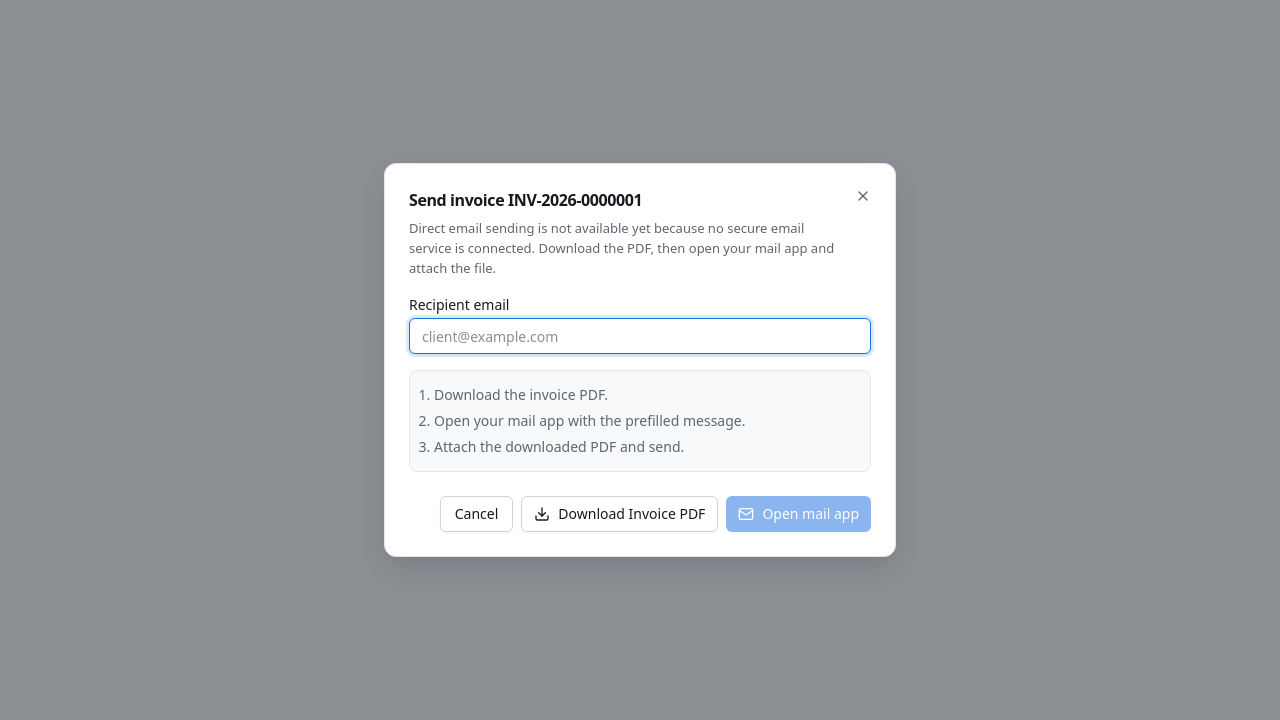
Scenario: InvoiceEmailDialog layout guards › keeps every control inside a constrained, wrapping dialog structure
Check: the dialog is shown, box left=384, top=163, right=896, bottom=557
Check: the button "Open mail app" is disabled, box left=726, top=496, right=871, bottom=532
In the field labelled "Recipient email": (640, 336) left=409, top=318, right=871, bottom=354, type "a.very.long.email.address.for.testing@subdomain.example-company.com"
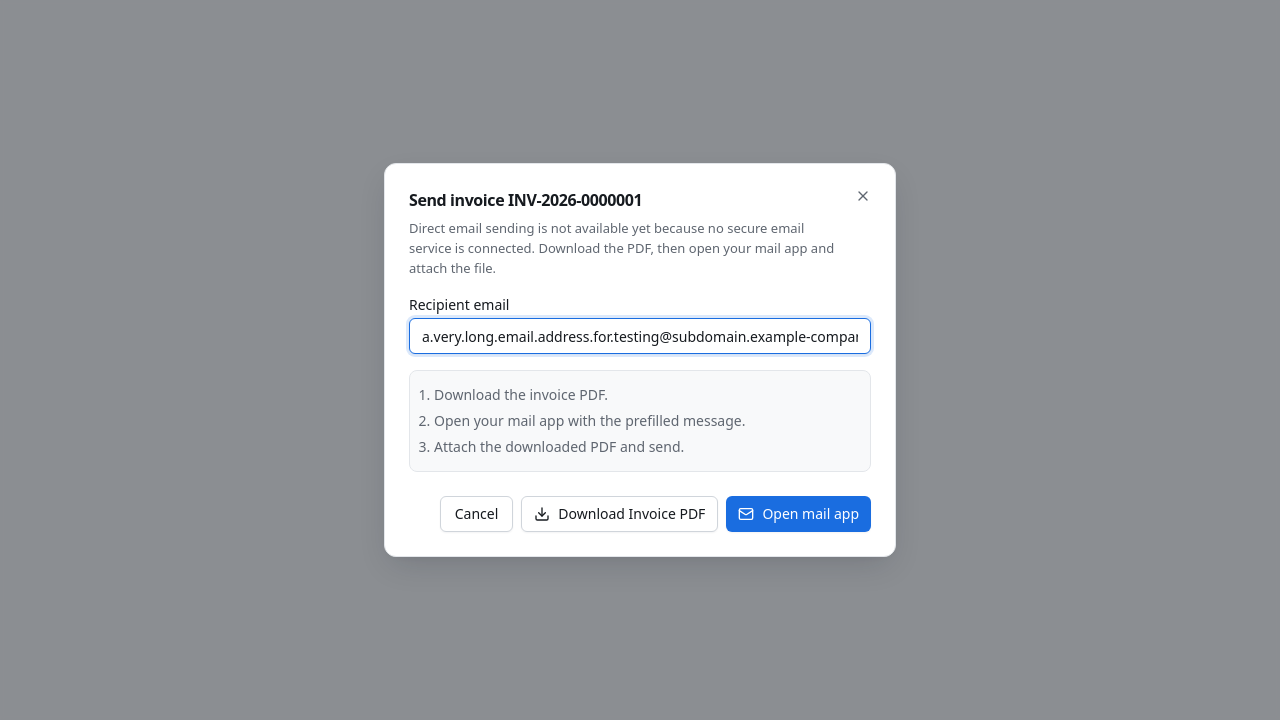
Check: the button "Open mail app" is enabled, box left=726, top=496, right=871, bottom=532
